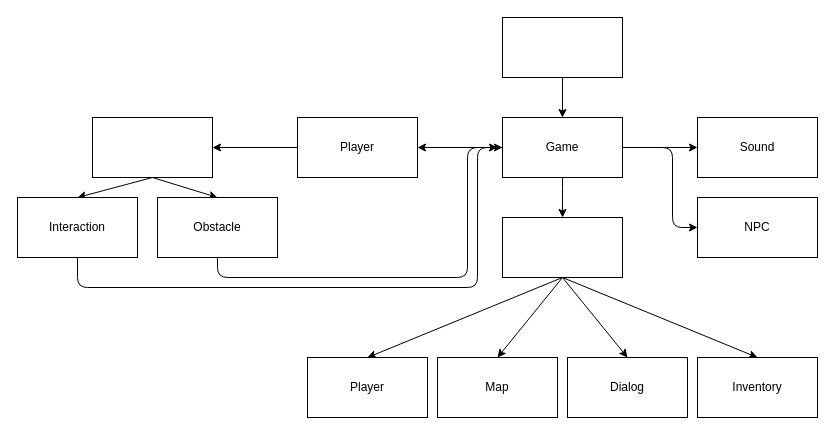
The diagram is 835 pixels wide and 435 high, and some of its shapes have lost their labels. The centre of each missing label's shape, as x and y in pixels:
"CheckCollision" goes at point 152,147.
"KeyboardListnner" goes at point 562,47.
"Render" goes at point 562,247.
